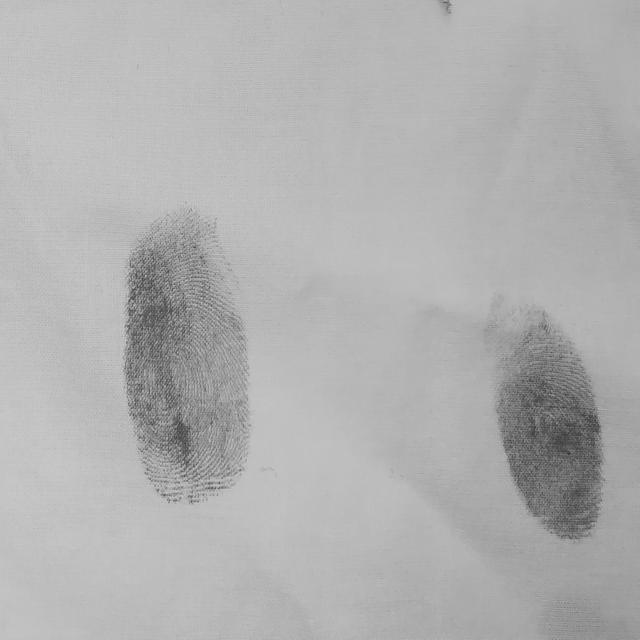Stain: (124, 208, 249, 503), (485, 298, 604, 539), (439, 0, 453, 14)
